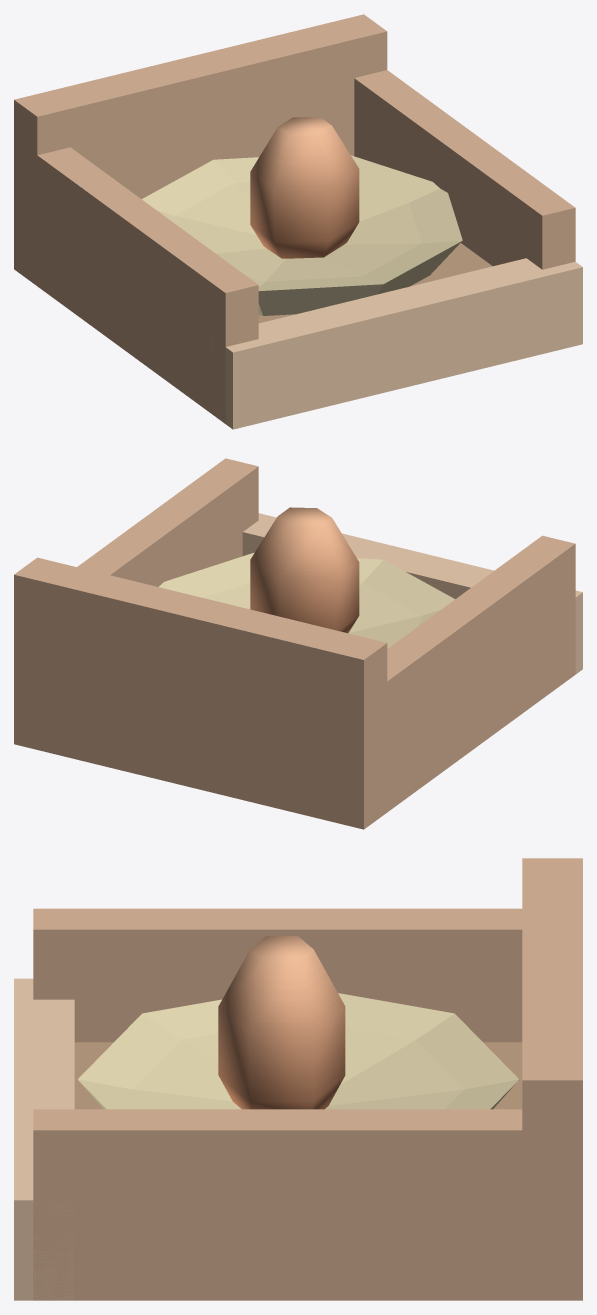
The model's file is crafted-nest-1.glb.
3 renders of one model, top to bottom at view 1: azimuth 30°, elevation 25°; view 2: azimuth 150°, elevation 25°; view 3: azimuth 270°, elevation 25°, orthographic. The views are drawn at different scales.
Visible parts, largest first — view 1: nest-back, nest-side, nest-front, straw, nest-side-1, egg-1, nest-floor; view 2: nest-back, nest-side, nest-side-1, egg-1, straw, nest-front; view 3: nest-side-1, nest-side, straw, nest-back, egg-1, nest-front, nest-floor.
Part boxes in pixels (x1,y1,x2,y2): nest-back: [14, 14, 387, 285]; nest-side: [21, 144, 258, 423]; nest-front: [209, 258, 582, 429]; straw: [142, 155, 462, 315]; nest-side-1: [354, 70, 575, 269]; egg-1: [250, 116, 359, 258]; nest-floor: [258, 243, 492, 323]; nest-back: [14, 557, 387, 829]; nest-side: [371, 535, 575, 823]; nest-side-1: [77, 458, 258, 586]; egg-1: [250, 507, 359, 633]; straw: [159, 552, 454, 648]; nest-front: [242, 513, 582, 674]; nest-side-1: [33, 1109, 563, 1300]; nest-side: [33, 908, 522, 1042]; straw: [77, 993, 519, 1109]; nest-back: [522, 858, 582, 1300]; egg-1: [218, 936, 345, 1109]; nest-front: [14, 978, 74, 1300]; nest-floor: [74, 1042, 522, 1109].
Bounding box in the file's own units: 0.475 × 0.24 × 0.515.
7 materials, 1 textured.
